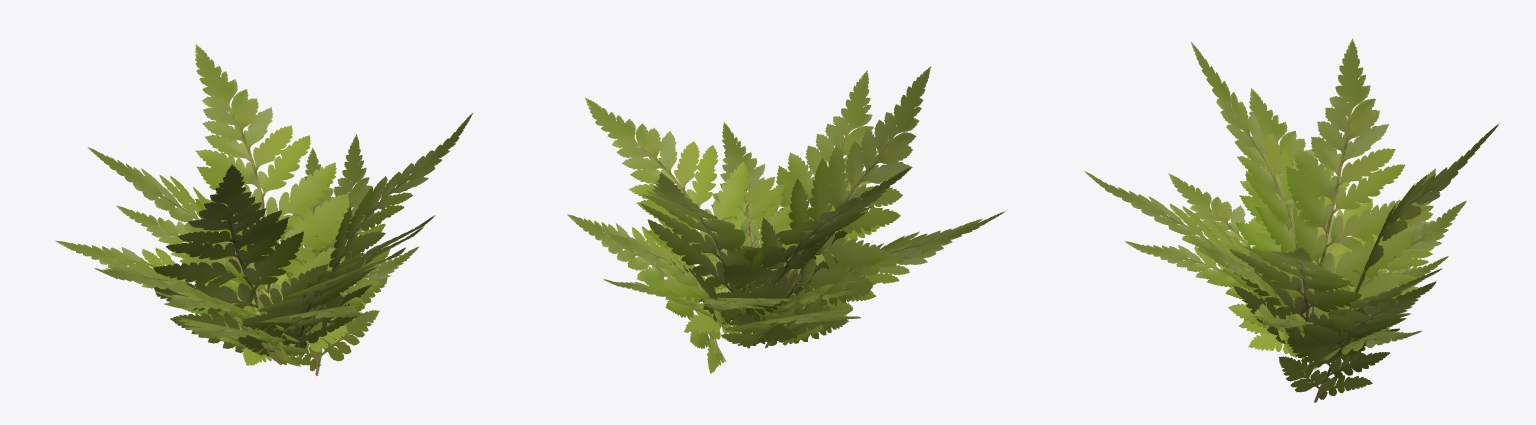
File: Fern Plant.fbx
3 views of the same model, side by side, from view 1: azimuth 30°, elevation 25°; view 2: azimuth 150°, elevation 25°; view 3: azimuth 270°, elevation 25° (orthographic). The views are drawn at different scales.
Visible parts, largest first — view 1: Fern Plant; view 2: Fern Plant; view 3: Fern Plant.
Part boxes in pixels (x1,y1,x2,y2): Fern Plant: [55, 44, 472, 376]; Fern Plant: [567, 66, 1005, 373]; Fern Plant: [1084, 38, 1499, 402].
Bounding box in the file's own units: 65.26 × 47.04 × 56.36.
1 material, 1 textured.
